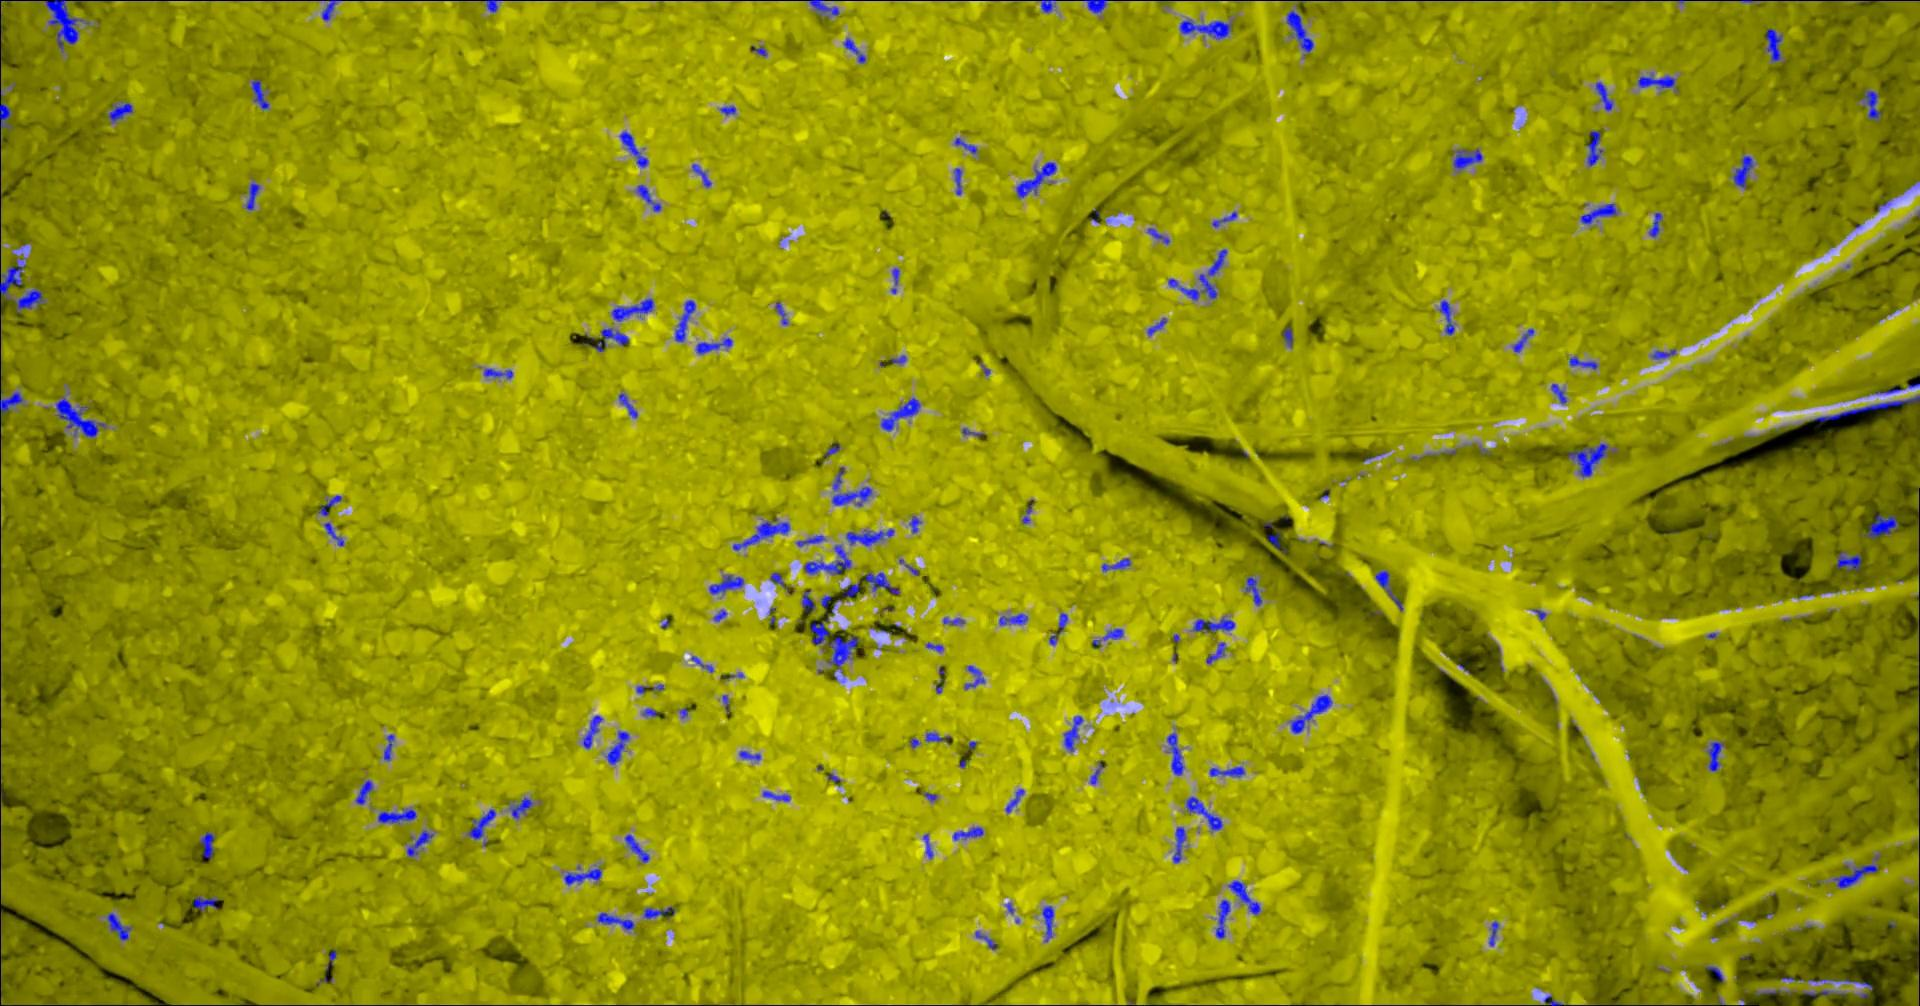ant: (1810, 394, 1919, 422), (1167, 248, 1225, 300), (55, 398, 105, 437), (44, 0, 83, 52), (731, 518, 789, 550), (830, 466, 871, 506), (1290, 694, 1331, 733), (1015, 161, 1057, 197), (803, 544, 850, 574), (1567, 443, 1608, 478), (880, 398, 919, 431), (0, 254, 25, 302), (1185, 796, 1222, 829), (1286, 10, 1313, 55), (583, 326, 629, 351), (825, 635, 858, 668), (1228, 880, 1260, 915), (1832, 864, 1877, 888), (810, 602, 836, 644), (1178, 19, 1230, 39), (1375, 570, 1402, 610), (618, 131, 648, 166), (611, 298, 653, 321), (1860, 513, 1898, 537), (467, 808, 495, 840), (861, 572, 899, 594), (674, 300, 695, 340), (844, 528, 894, 545), (604, 730, 629, 763), (0, 391, 23, 426), (1166, 732, 1183, 775), (1580, 203, 1617, 224), (14, 288, 44, 312), (1808, 978, 1872, 989), (105, 912, 131, 940), (636, 184, 662, 211), (1063, 715, 1082, 751), (406, 829, 432, 856), (623, 835, 648, 862), (1732, 155, 1752, 188), (582, 715, 602, 748), (709, 574, 743, 593), (1192, 616, 1234, 631), (563, 868, 601, 884), (1860, 89, 1881, 119), (695, 337, 731, 353), (597, 912, 634, 929), (377, 808, 417, 823), (1586, 130, 1603, 165), (1453, 149, 1482, 168), (843, 38, 865, 64), (1765, 28, 1782, 61), (1439, 300, 1454, 335), (1835, 551, 1862, 572), (1215, 899, 1229, 937), (251, 79, 268, 109), (1707, 741, 1723, 771), (509, 796, 532, 818), (691, 163, 711, 187), (1512, 328, 1533, 352), (1637, 74, 1675, 86), (107, 102, 132, 121), (1004, 788, 1023, 813), (1244, 575, 1261, 605), (1172, 826, 1185, 862), (809, 0, 839, 15), (323, 522, 343, 545), (964, 666, 984, 688), (1595, 83, 1611, 111), (618, 392, 637, 417), (317, 495, 342, 514), (320, 0, 342, 20), (1205, 641, 1225, 663), (952, 826, 983, 840), (1041, 904, 1053, 941), (356, 779, 372, 804), (1568, 356, 1597, 370), (1101, 558, 1130, 572), (199, 831, 215, 857), (643, 906, 674, 918), (1211, 211, 1236, 227), (0, 91, 10, 130), (975, 930, 996, 949), (1147, 227, 1170, 244), (245, 183, 259, 210), (1209, 766, 1244, 776), (192, 895, 217, 909), (954, 137, 977, 152), (1147, 318, 1166, 335), (924, 732, 951, 744), (1648, 212, 1662, 236), (796, 535, 825, 546), (998, 614, 1027, 625), (1090, 761, 1105, 782), (1082, 0, 1107, 13), (801, 589, 815, 612), (762, 790, 790, 801), (841, 580, 860, 597), (483, 368, 512, 379), (775, 301, 787, 324), (1650, 348, 1675, 359), (1550, 384, 1566, 403), (922, 833, 933, 857), (1267, 531, 1283, 549), (1803, 989, 1845, 996), (952, 166, 961, 194), (1488, 921, 1498, 945), (1102, 627, 1123, 639), (890, 268, 899, 293), (383, 734, 392, 760), (738, 749, 759, 760), (1281, 326, 1291, 347), (1543, 995, 1563, 1005), (770, 572, 783, 586), (485, 0, 502, 11), (909, 514, 919, 532), (1040, 0, 1055, 11), (1058, 612, 1067, 631), (719, 105, 735, 114)
